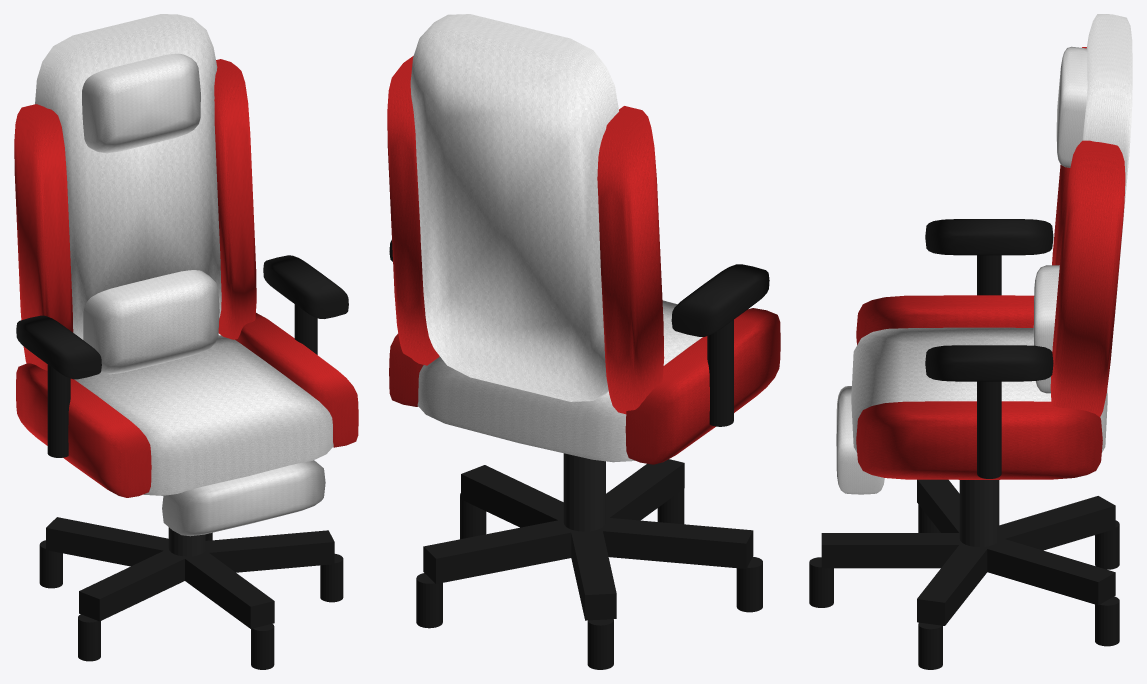
3 renders of one model, left to right at view 1: azimuth 30°, elevation 25°; view 2: azimuth 150°, elevation 25°; view 3: azimuth 270°, elevation 25°, orthographic. The views are drawn at different scales.
Visible parts, largest first — view 1: 4 backrest, 1 seat, 5 backrest_bolster_left, 8 lumbar_pillow, 7 headrest, 6 backrest_bolster_right, 2 seat_bolster_left, 9 footrest, 3 seat_bolster_right, 16 base_spoke_2, 19 base_spoke_5, 18 base_spoke_4 (+10 smaller); view 2: 4 backrest, 5 backrest_bolster_left, 1 seat, 2 seat_bolster_left, 6 backrest_bolster_right, 17 base_spoke_3, 19 base_spoke_5, 10 armrest_pad_left, 16 base_spoke_2, 18 base_spoke_4, 15 base_spoke_1, 14 center_column (+7 smaller); view 3: 3 seat_bolster_right, 6 backrest_bolster_right, 1 seat, 4 backrest, 2 seat_bolster_left, 17 base_spoke_3, 15 base_spoke_1, 11 armrest_pad_right, 10 armrest_pad_left, 18 base_spoke_4, 16 base_spoke_2, 7 headrest (+11 smaller).
Boxes of the visible parts, x1,y1,x2,y2 form: 4 backrest: (35, 14, 221, 339); 1 seat: (74, 335, 333, 495); 5 backrest_bolster_left: (14, 104, 73, 370); 8 lumbar_pillow: (83, 270, 219, 374); 7 headrest: (82, 53, 200, 153); 6 backrest_bolster_right: (214, 59, 256, 339); 2 seat_bolster_left: (16, 363, 151, 497); 9 footrest: (162, 460, 325, 536); 3 seat_bolster_right: (235, 313, 358, 447); 16 base_spoke_2: (205, 530, 334, 572); 19 base_spoke_5: (79, 548, 188, 621); 18 base_spoke_4: (46, 517, 168, 566); 4 backrest: (410, 14, 618, 401); 5 backrest_bolster_left: (597, 106, 664, 414); 1 seat: (417, 300, 702, 462); 2 seat_bolster_left: (625, 308, 780, 464); 6 backrest_bolster_right: (387, 56, 439, 365); 17 base_spoke_3: (423, 520, 577, 583); 19 base_spoke_5: (602, 518, 753, 568); 10 armrest_pad_left: (671, 264, 769, 336); 16 base_spoke_2: (461, 465, 563, 527); 18 base_spoke_4: (571, 528, 616, 620); 15 base_spoke_1: (606, 459, 684, 520); 14 center_column: (563, 453, 605, 531); 3 seat_bolster_right: (856, 401, 1102, 479); 6 backrest_bolster_right: (1050, 140, 1125, 416); 1 seat: (851, 327, 1107, 452); 4 backrest: (1082, 14, 1132, 320); 2 seat_bolster_left: (856, 295, 1034, 344); 17 base_spoke_3: (981, 539, 1115, 605); 15 base_spoke_1: (821, 533, 961, 568); 11 armrest_pad_right: (925, 345, 1053, 381); 10 armrest_pad_left: (925, 219, 1053, 255); 18 base_spoke_4: (999, 496, 1115, 550); 16 base_spoke_2: (917, 542, 987, 625); 7 headrest: (1056, 46, 1087, 167).
Bounding box in the file's own units: 0.55 × 1 × 0.52.
Materials: 4 (2 with a texture image).
